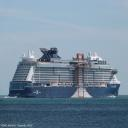cruises: (9, 49, 122, 100)
